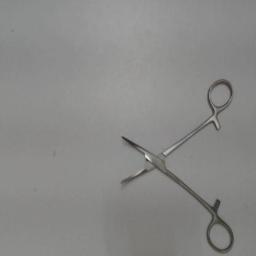Crile Artery Forceps: (116, 71, 238, 255)
